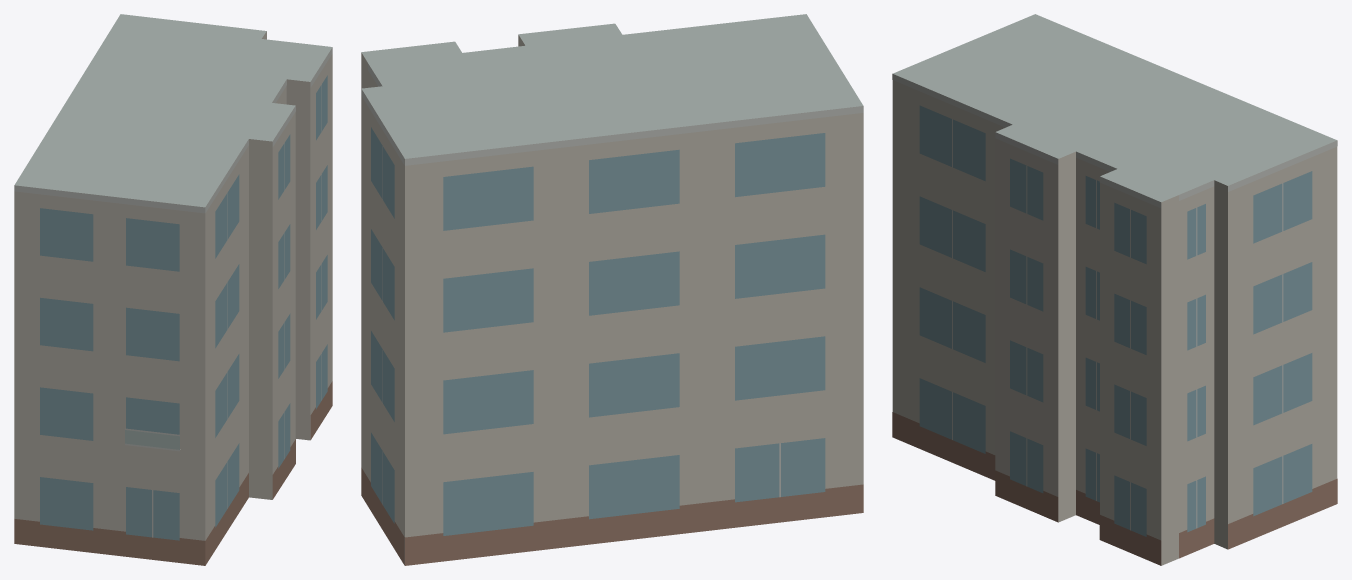
The model's file is survey-upis-32590185.glb.
3 views of the same model, side by side, from view 1: azimuth 30°, elevation 25°; view 2: azimuth 150°, elevation 25°; view 3: azimuth 270°, elevation 25° (orthographic). The views are drawn at different scales.
Parts seen in each view (by area): view 1: survey-upis-32590185.tmp; view 2: survey-upis-32590185.tmp; view 3: survey-upis-32590185.tmp.
Boxes of the visible parts, x1,y1,x2,y2 form: survey-upis-32590185.tmp: (14,14,332,565); survey-upis-32590185.tmp: (361,14,863,565); survey-upis-32590185.tmp: (892,14,1337,565).
Bounding box in the file's own units: 15.94 × 14.35 × 15.92.
